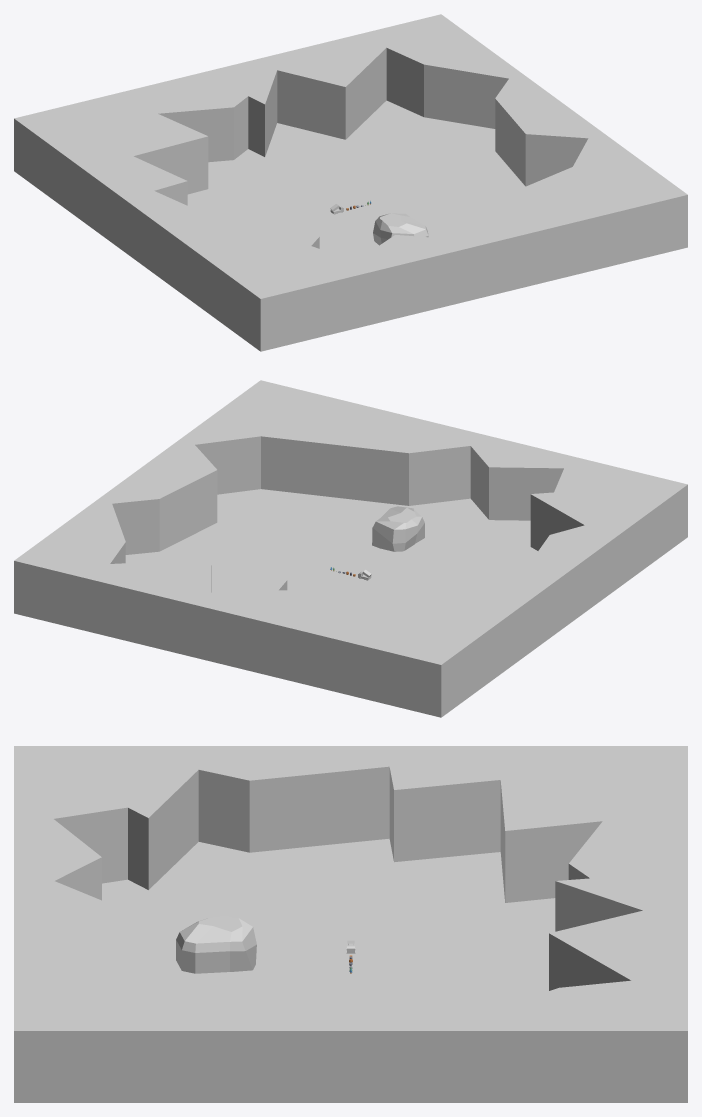
File: TD_Assets.fbx
The picture shows the model from 3 angles, top to bottom: view 1: azimuth 30°, elevation 25°; view 2: azimuth 150°, elevation 25°; view 3: azimuth 270°, elevation 25°; orthographic projection. The views are drawn at different scales.
Visible parts, largest first — view 1: Plane, Plane.001; view 2: Plane, Plane.001; view 3: Plane, Plane.001.
Part boxes in pixels (<box>): Plane: <box>14,14,687,351</box>; Plane.001: <box>373,213,428,245</box>; Plane: <box>14,380,687,717</box>; Plane.001: <box>372,506,424,551</box>; Plane: <box>14,746,687,1102</box>; Plane.001: <box>176,915,256,973</box>.
Size of the model in its own units: 50000 by 7345 by 50000.
